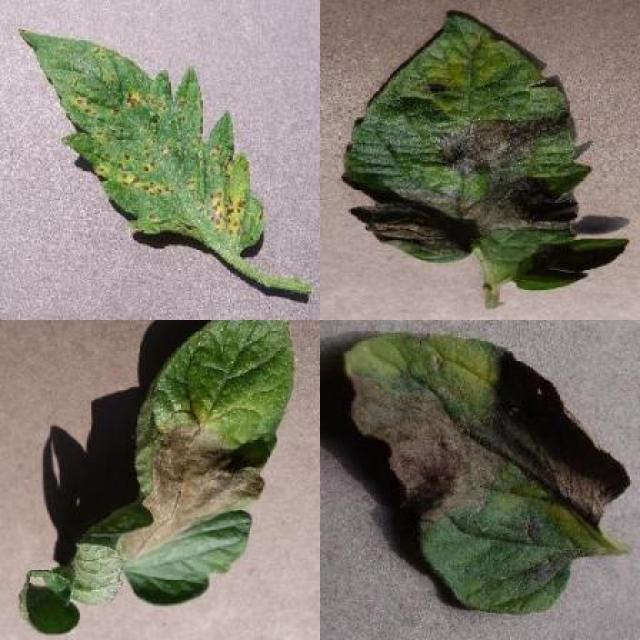Late Blight: (342, 332, 632, 618), (340, 11, 630, 292), (70, 319, 297, 606)
Septoria: (23, 28, 266, 255)
